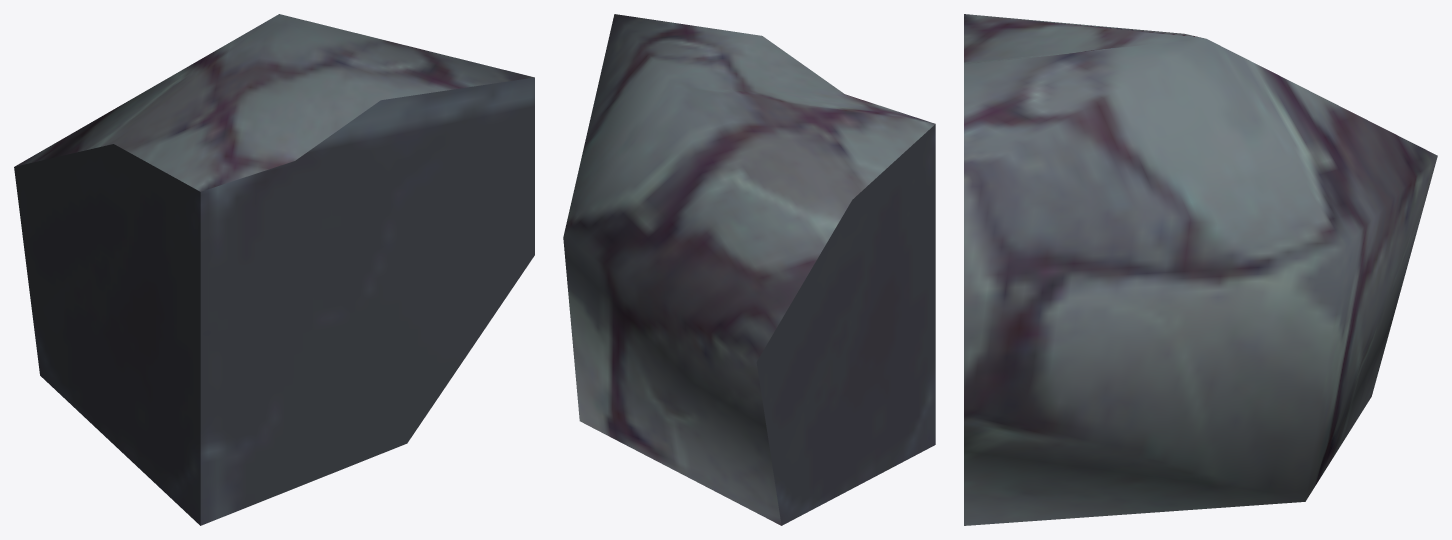
Rendered from huoshan_stone_07.FBX.
3 renders of one model, left to right at view 1: azimuth 30°, elevation 25°; view 2: azimuth 150°, elevation 25°; view 3: azimuth 270°, elevation 25°, orthographic. The views are drawn at different scales.
Parts seen in each view (by area): view 1: huoshan_stone_07; view 2: huoshan_stone_07; view 3: huoshan_stone_07.
Boxes of the visible parts, left/top/right/bottom form: huoshan_stone_07: left=14, top=14, right=534, bottom=525; huoshan_stone_07: left=563, top=14, right=935, bottom=525; huoshan_stone_07: left=964, top=14, right=1437, bottom=525.
Bounding box in the file's own units: 150 × 172 × 145.
